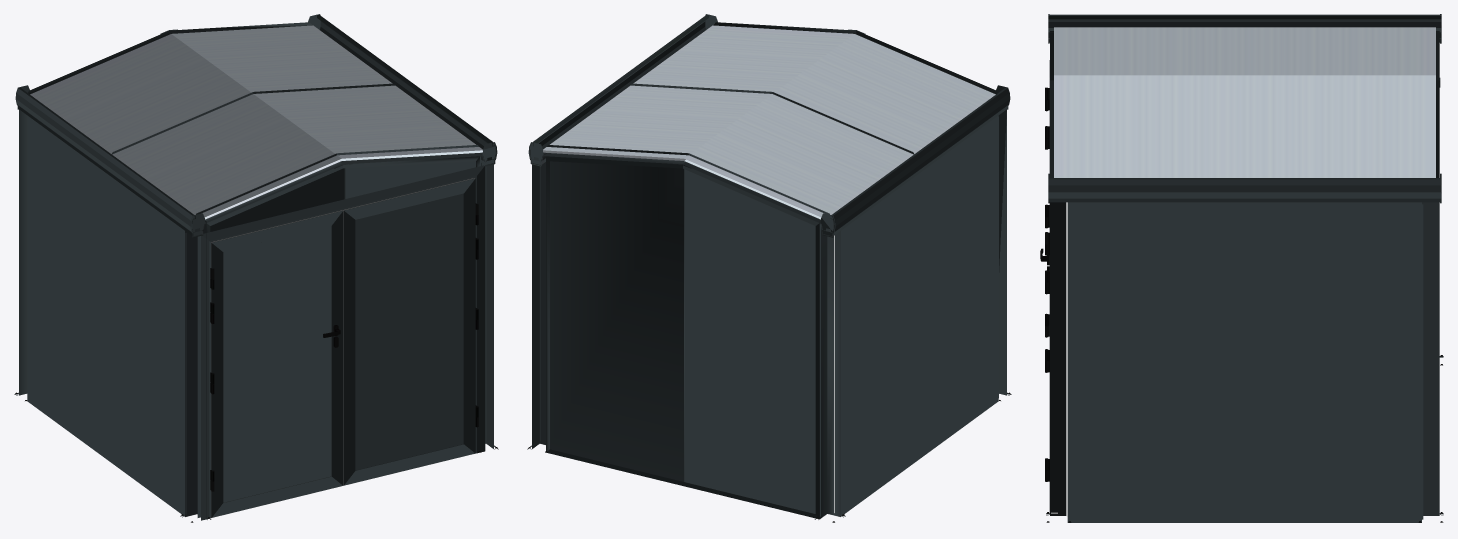
The picture shows the model from 3 angles, left to right: view 1: azimuth 30°, elevation 25°; view 2: azimuth 150°, elevation 25°; view 3: azimuth 270°, elevation 25°; orthographic projection. The views are drawn at different scales.
Parts seen in each view (by area): view 1: priximbattable_net_abris_de_rangement_13447_abri_de_rangemen, folha, folha_2, porta_avec_hublot; view 2: priximbattable_net_abris_de_rangement_13447_abri_de_rangemen; view 3: priximbattable_net_abris_de_rangement_13447_abri_de_rangemen, folha, porta_avec_hublot.
Boxes of the visible parts, box(x1,y1,x2,y2) form: priximbattable_net_abris_de_rangement_13447_abri_de_rangemen: box(14, 14, 498, 522); folha: box(343, 178, 478, 485); folha_2: box(210, 210, 343, 517); porta_avec_hublot: box(197, 162, 485, 520); priximbattable_net_abris_de_rangement_13447_abri_de_rangemen: box(527, 14, 1011, 522); priximbattable_net_abris_de_rangement_13447_abri_de_rangemen: box(1046, 14, 1443, 522); folha: box(1045, 132, 1049, 511); porta_avec_hublot: box(1045, 99, 1057, 513).
Bounding box in the file's own units: 224 × 229 × 228.
1 material, 1 textured.
